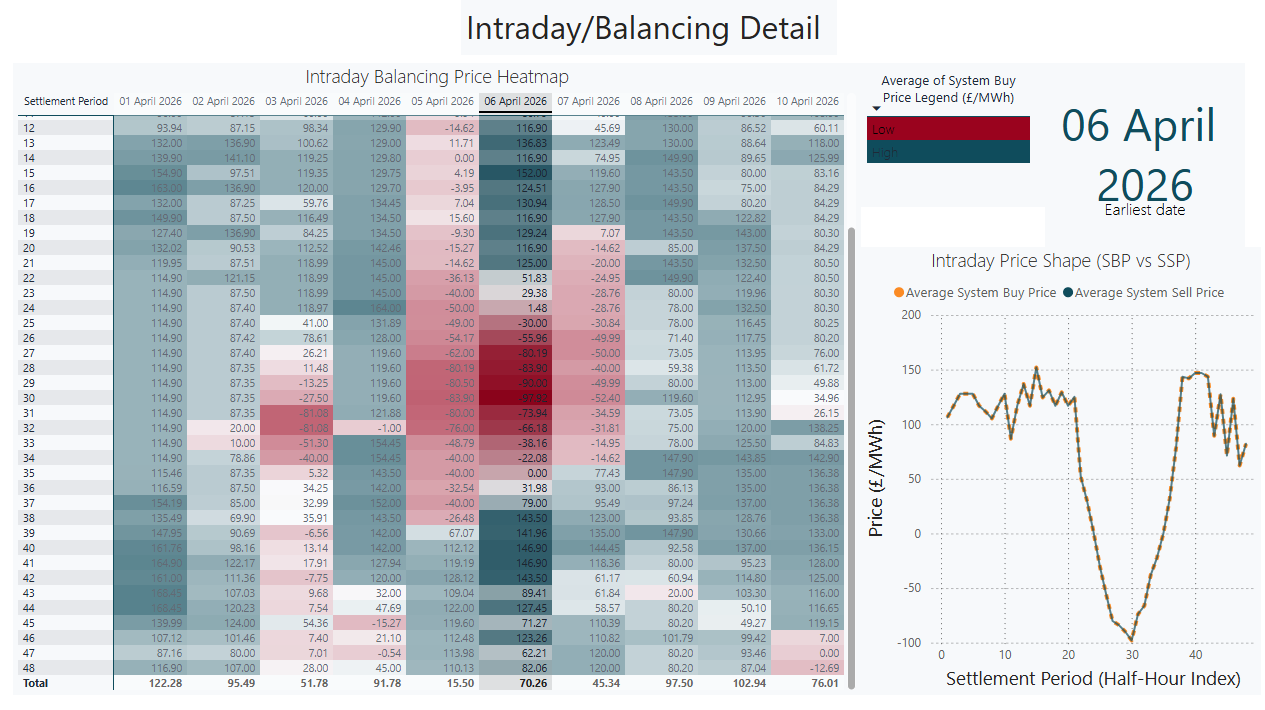

This screenshot's page, from the dashboard's own definition file:
{"tool":"powerbi","page":{"name":"Intraday/Balancing Detail","canvas":[1280,720],"ordinal":1},"visuals":[{"type":"pivotTable","title":"Intraday Balancing Price Heatmap","fields":{"Values":["Avg(fact_power_market.sbp_gbp_mwh)"],"Rows":["fact_power_market.settlement_period"],"Columns":["fact_power_market.date"]},"box":[16,64,848,632],"z":1000},{"type":"card","fields":{"Values":["Min(fact_power_market.date)"]},"box":[1048,64,200,184],"z":1000},{"type":"textbox","box":[464,0,376,56],"z":2000},{"type":"lineChart","title":"Intraday Price Shape (SBP vs SSP)","fields":{"Category":["fact_power_market.settlement_period"],"Y":["fact_power_market.Avg SBP","fact_power_market.Avg SSP"]},"box":[864,248,400,448],"z":3001},{"type":"tableEx","fields":{"Values":["IntraPrice Colour Legend.Label"]},"box":[864,64,184,144],"z":4002}]}

Visuals, with their boxes in screenshot pixels (x1, y1, x2, y2), scaled from the page's 1280x720 canvas onto the 1265x710 screenshot:
"Intraday Balancing Price Heatmap" pivotTable: {"left": 16, "top": 63, "right": 854, "bottom": 686}
card - Min(fact_power_market.date): {"left": 1036, "top": 63, "right": 1233, "bottom": 245}
textbox: {"left": 459, "top": 0, "right": 830, "bottom": 55}
"Intraday Price Shape (SBP vs SSP)" lineChart: {"left": 854, "top": 245, "right": 1249, "bottom": 686}
tableEx - IntraPrice Colour Legend.Label: {"left": 854, "top": 63, "right": 1036, "bottom": 205}
